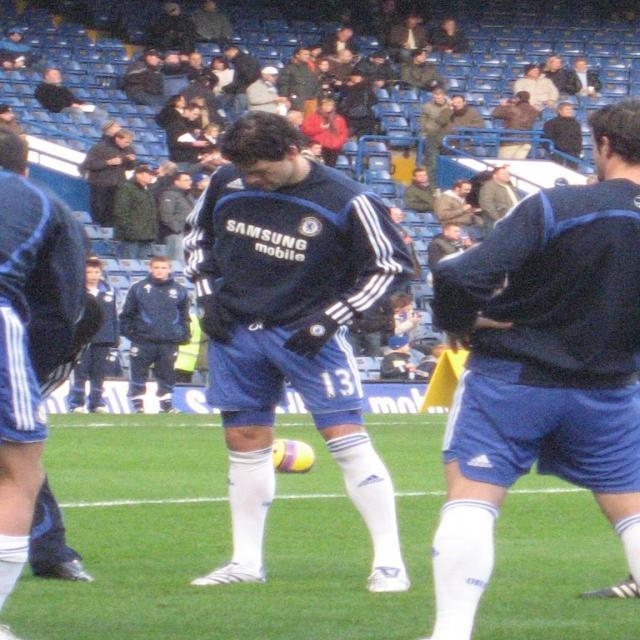ball: (270, 439, 316, 475)
